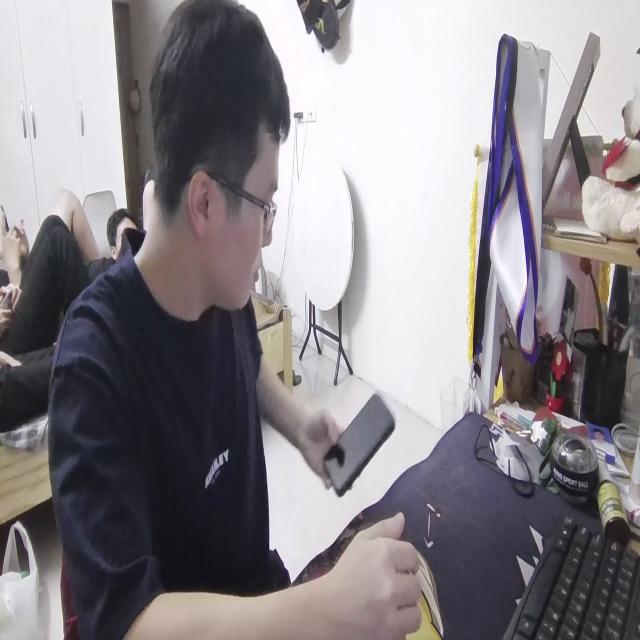extra_person: (0, 190, 91, 398), (108, 194, 144, 268)
phone: (321, 382, 397, 502)
student: (48, 0, 422, 640)
